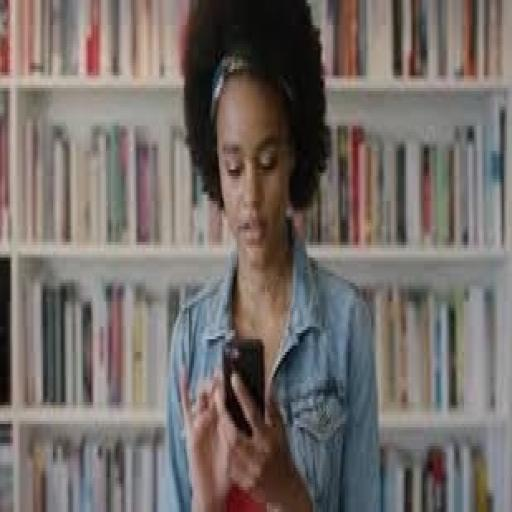texting: (158, 0, 384, 509)
